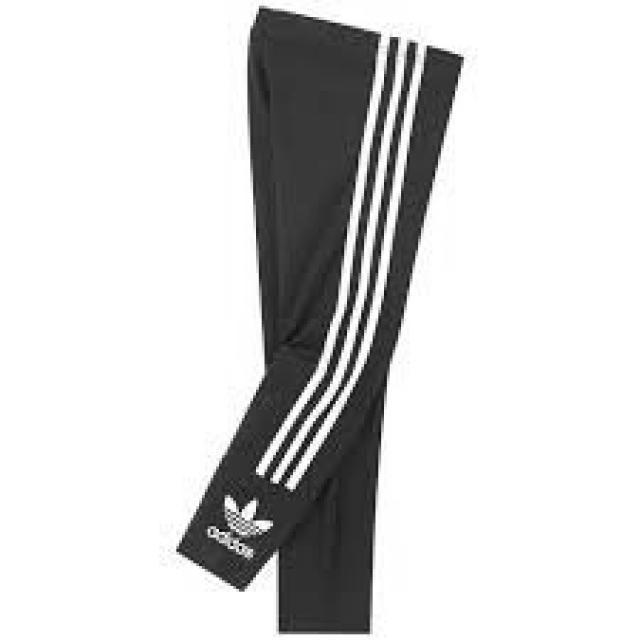Adidas: (204, 490, 273, 568)
